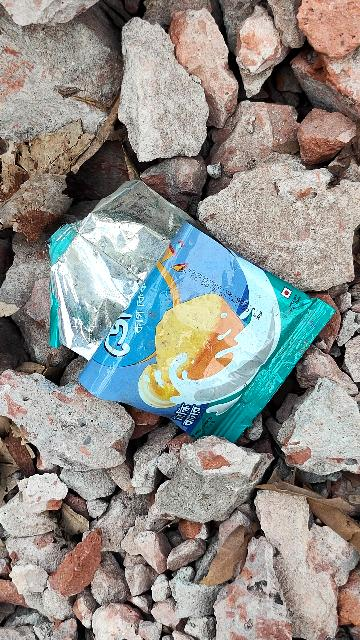packet: (45, 164, 360, 474)
